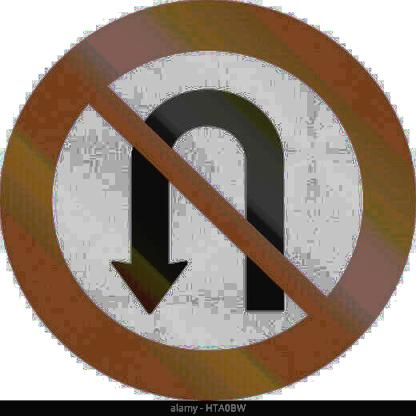No U-turn: (0, 0, 414, 403)
